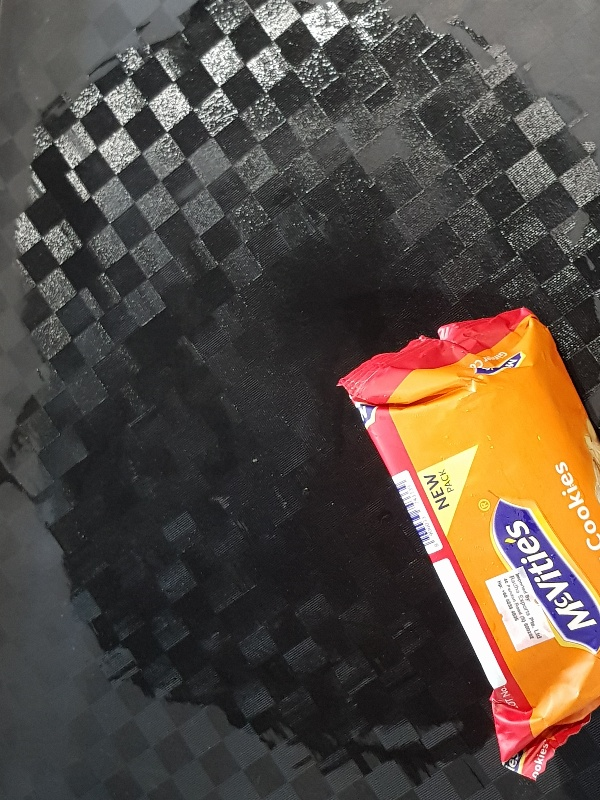McVitie's Wholewheat Marie: (332, 305, 600, 783)
